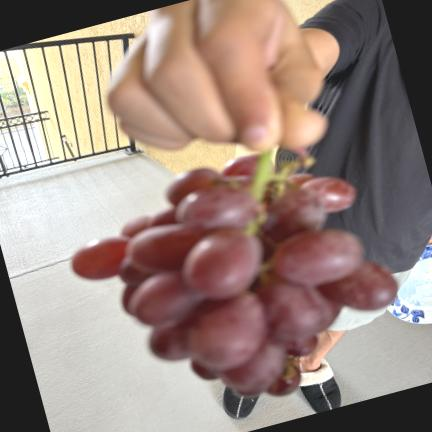grape_cluster: (72, 152, 397, 396)
